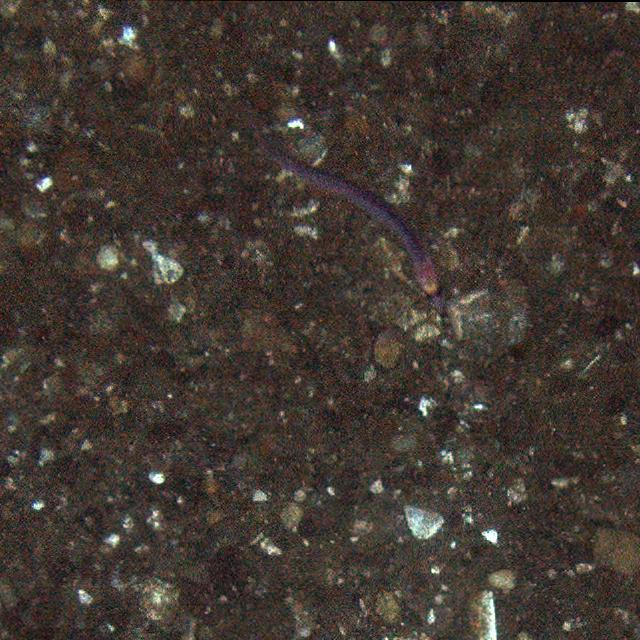roundfish: (243, 120, 443, 296)
